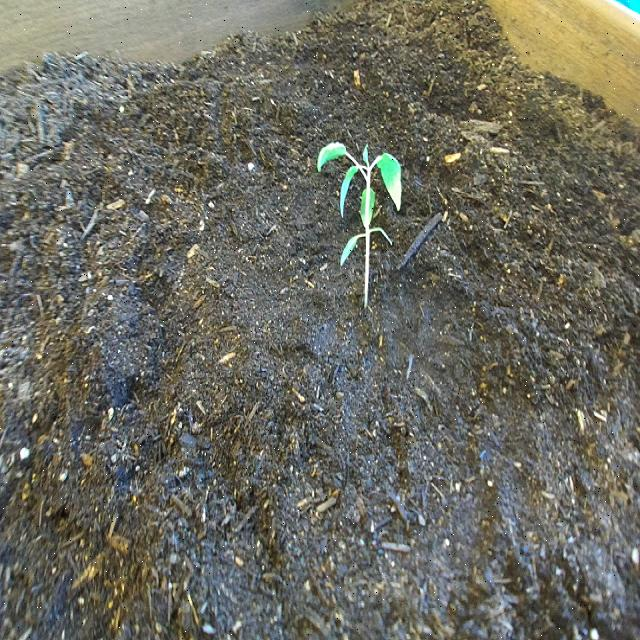Healthy: (315, 134, 406, 315)
